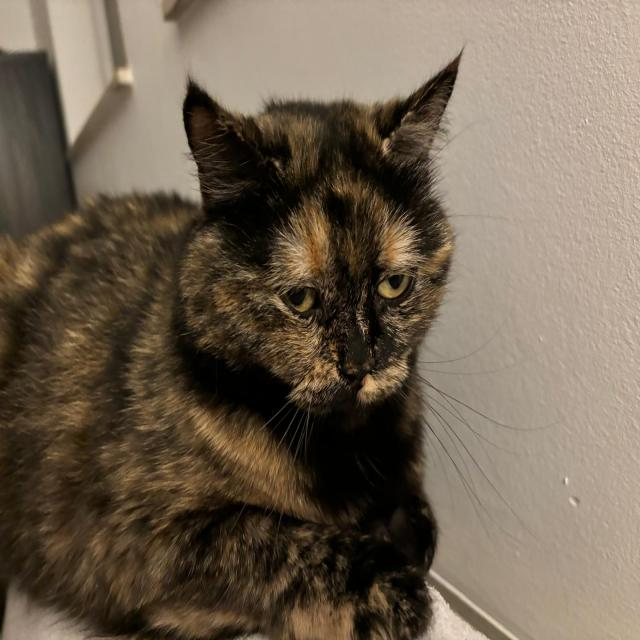authorized: (0, 44, 542, 638)
